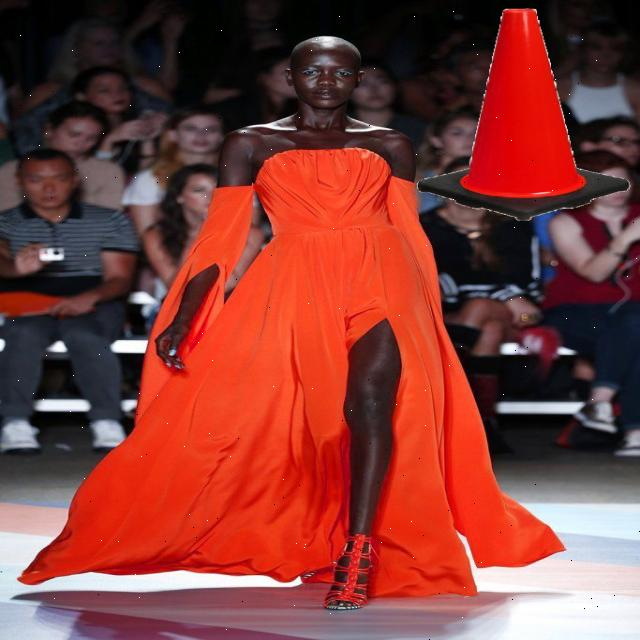traffic cone: (412, 5, 636, 224)
